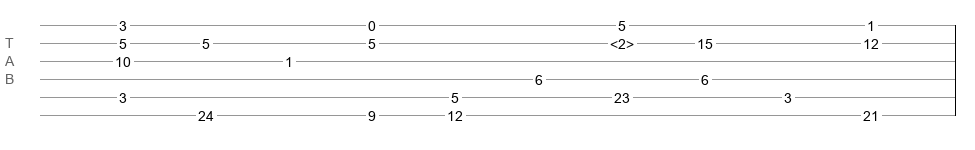0: (368, 18, 376, 28)
1: (285, 54, 293, 64), (867, 18, 875, 28)
10: (115, 54, 131, 64)
12: (447, 108, 463, 118), (863, 36, 879, 46)
15: (697, 36, 713, 46)
21: (863, 108, 879, 118)
23: (614, 90, 630, 100)
24: (198, 108, 214, 118)
3: (119, 18, 127, 28), (119, 90, 127, 100), (784, 90, 792, 100)
5: (119, 36, 127, 46), (202, 36, 210, 46), (368, 36, 376, 46), (451, 90, 459, 100), (618, 18, 626, 28)
6: (535, 72, 543, 82), (701, 72, 709, 82)
9: (368, 108, 376, 118)
harmonic: (610, 36, 634, 46)
